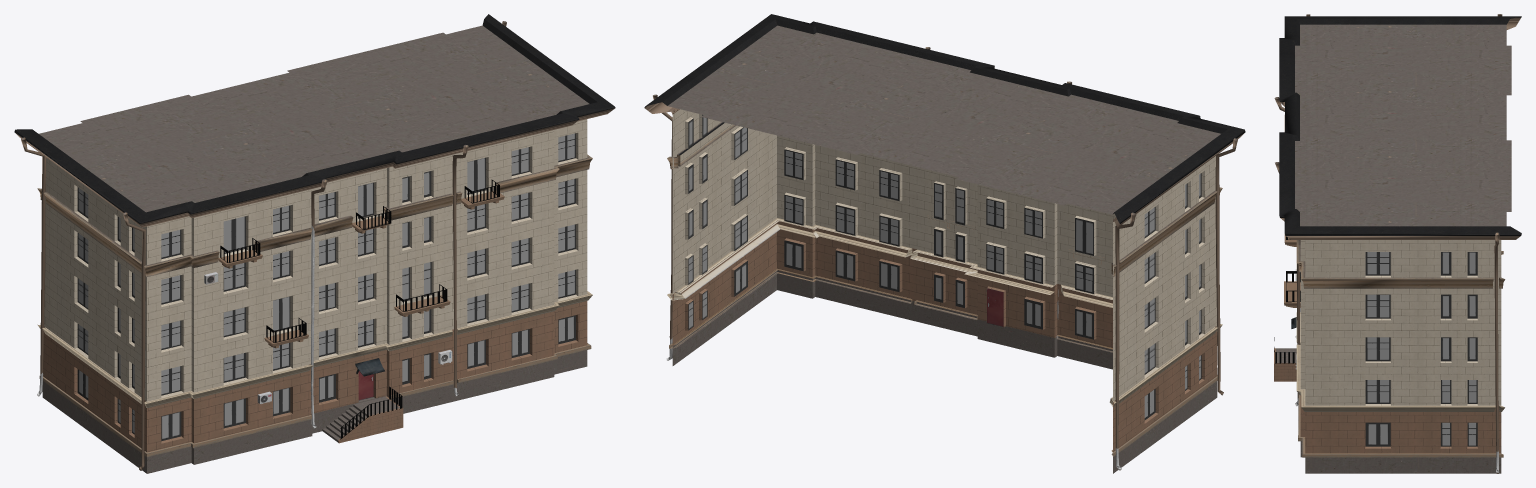
File: Build_Coffee.fbx
3 views of the same model, side by side, from view 1: azimuth 30°, elevation 25°; view 2: azimuth 150°, elevation 25°; view 3: azimuth 270°, elevation 25° (orthographic). The views are drawn at different scales.
Parts seen in each view (by area): view 1: Build_Coffee; view 2: Build_Coffee; view 3: Build_Coffee.
Boxes of the visible parts, left/top/right/bottom form: Build_Coffee: left=14, top=14, right=615, bottom=473; Build_Coffee: left=644, top=14, right=1245, bottom=473; Build_Coffee: left=1274, top=14, right=1521, bottom=473.
Bounding box in the file's own units: 945 × 497 × 447.
Materials: 8 (8 with a texture image).
